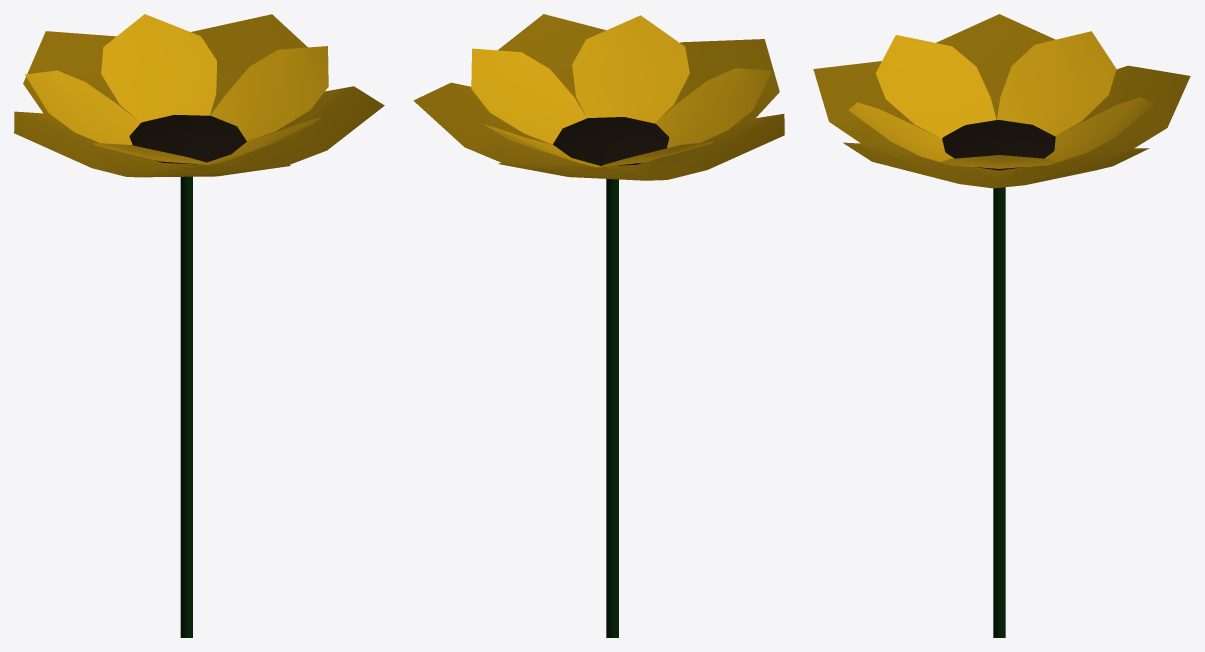
Rendered from Prop_Flower_01.FBX.
The picture shows the model from 3 angles, left to right: view 1: azimuth 30°, elevation 25°; view 2: azimuth 150°, elevation 25°; view 3: azimuth 270°, elevation 25°; orthographic projection.
Parts seen in each view (by area): view 1: Prop_Flower_01; view 2: Prop_Flower_01; view 3: Prop_Flower_01.
Part boxes in pixels (<box>): Prop_Flower_01: <box>14,14,384,637</box>; Prop_Flower_01: <box>413,14,784,637</box>; Prop_Flower_01: <box>813,14,1190,637</box>.
Size of the model in its own units: 9.33 by 15.4 by 9.58.
